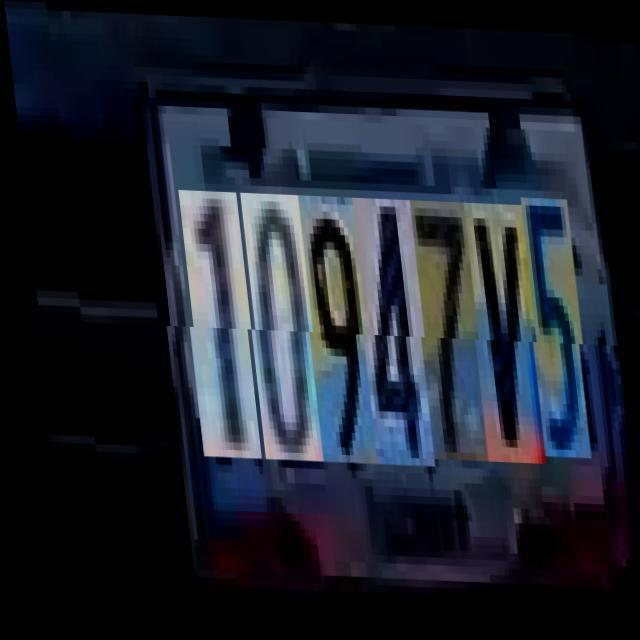1: (174, 188, 255, 457)
4: (348, 194, 428, 463)
5: (516, 193, 586, 454)
7: (406, 197, 482, 458)
9: (294, 192, 371, 460)
O: (236, 190, 316, 459)
V: (460, 198, 540, 460)
